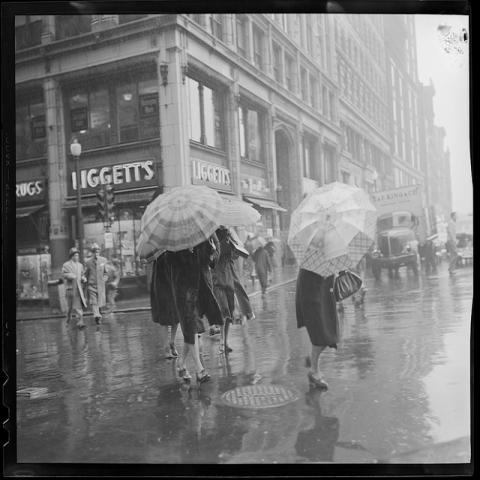car: (455, 215, 474, 261), (435, 244, 448, 264)
truck: (371, 189, 435, 282)
